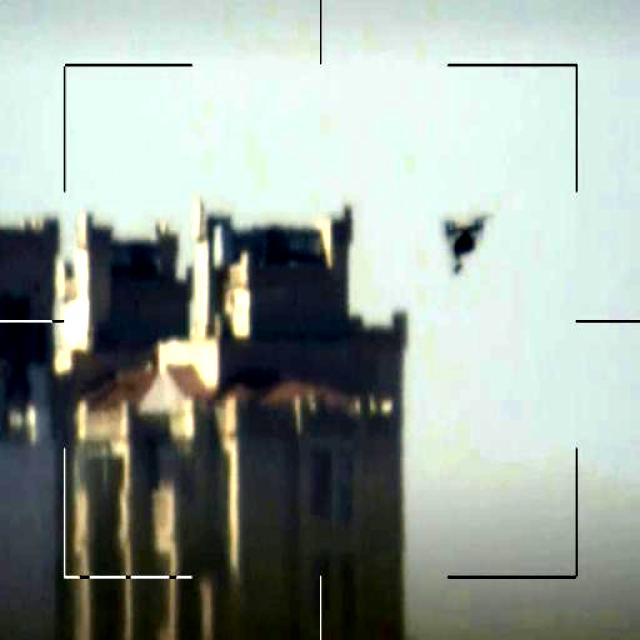bird: (435, 214, 492, 278)
